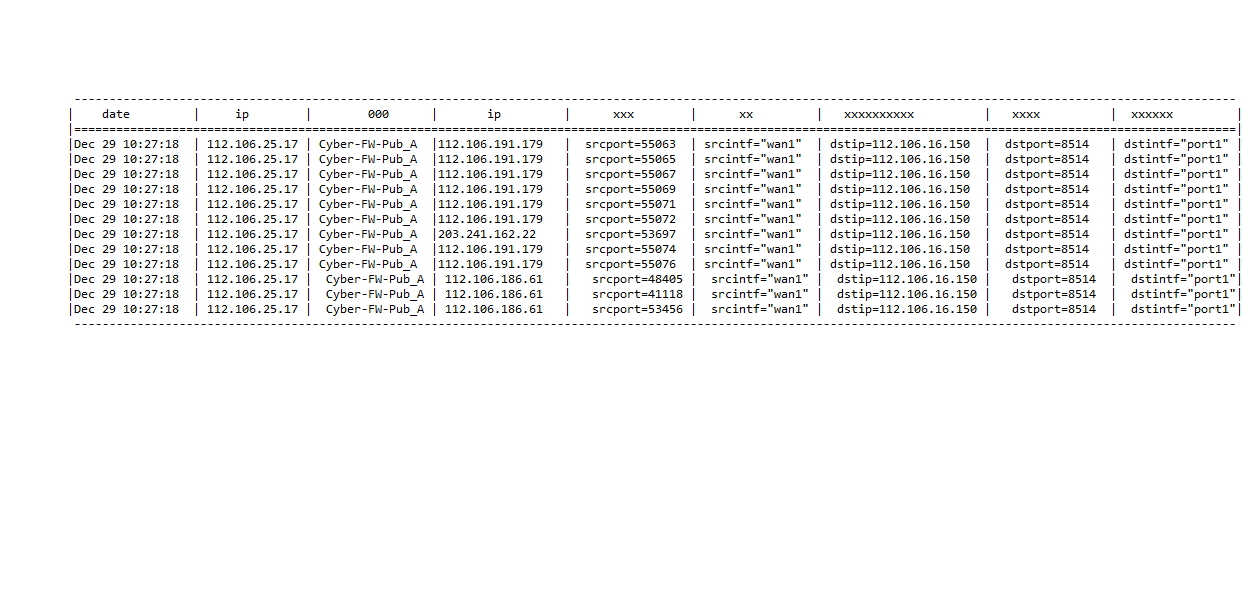table: (64, 91, 1245, 331)
